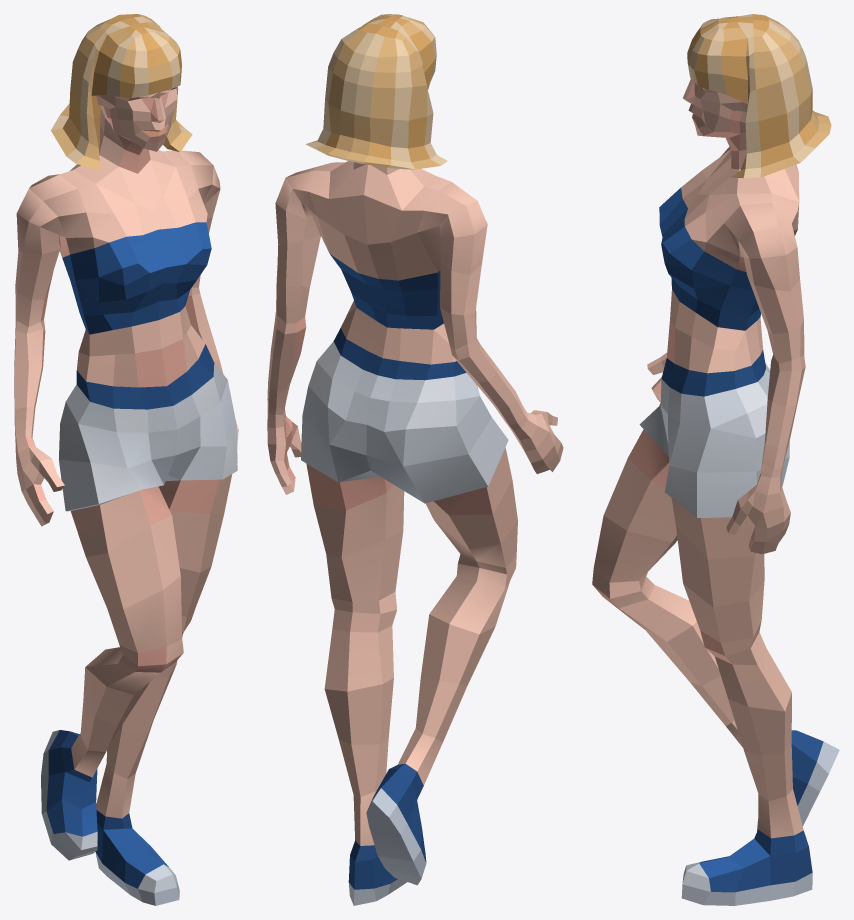
The model's file is woman-walking.glb.
3 views of the same model, side by side, from view 1: azimuth 30°, elevation 25°; view 2: azimuth 150°, elevation 25°; view 3: azimuth 270°, elevation 25° (orthographic).
Visible parts, largest first — view 1: woman-walking; view 2: woman-walking; view 3: woman-walking.
Part boxes in pixels (x1,y1,x2,y2): woman-walking: (14, 14, 238, 905); woman-walking: (267, 14, 563, 905); woman-walking: (592, 14, 839, 905).
Bounding box in the file's own units: 0.4853 × 1.63 × 0.4188.
Materials: 1 (1 with a texture image).
